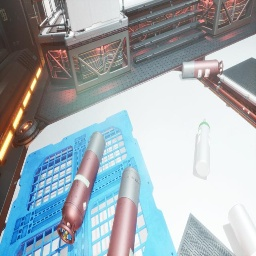0: (228, 204, 256, 256), (195, 118, 210, 177)
EmergencyPhone ,: (0, 7, 8, 21)
NitrogenTank ,: (57, 131, 106, 244), (107, 166, 141, 256), (182, 59, 224, 79)
